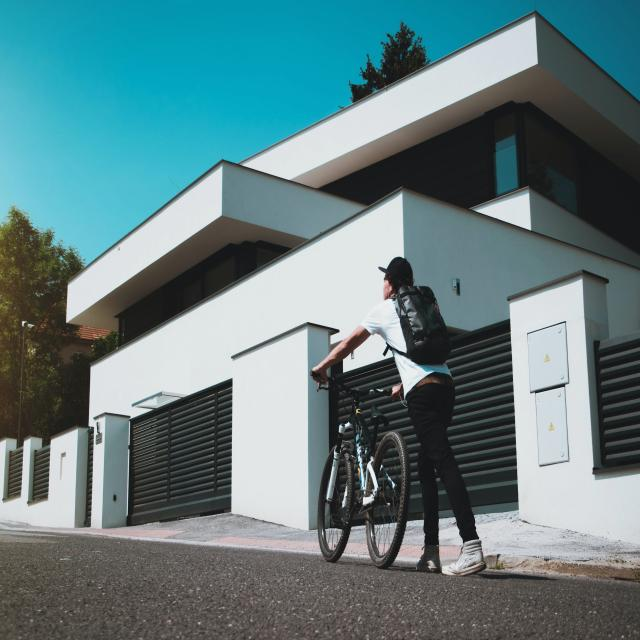adult: (312, 254, 487, 581)
